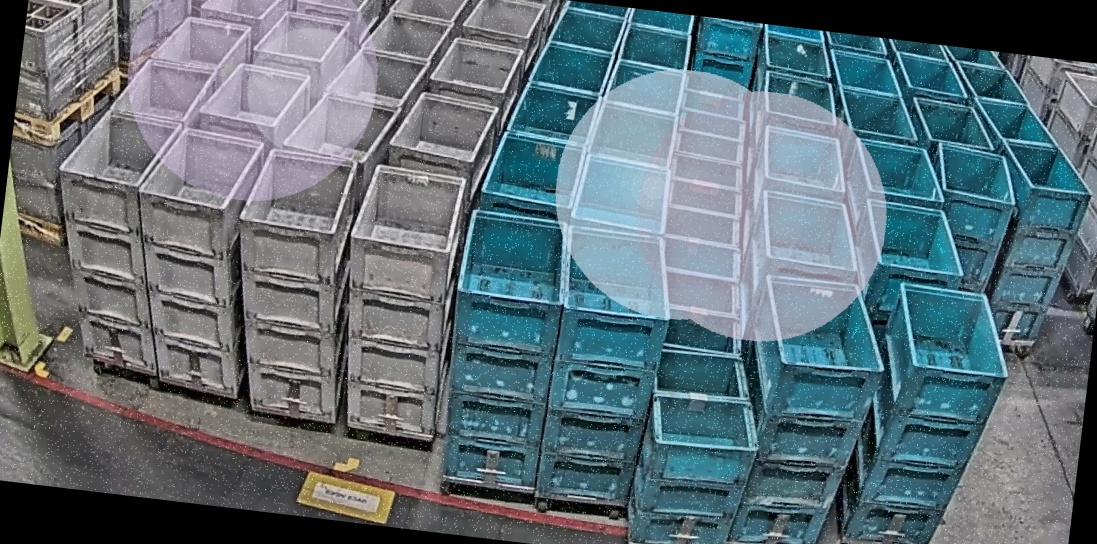4G: (115, 119, 274, 395), (214, 144, 370, 422), (35, 103, 190, 378), (326, 161, 469, 441)
B4: (718, 270, 896, 544), (835, 279, 1018, 544), (534, 222, 682, 509), (434, 207, 575, 491), (918, 140, 1024, 296)
B8: (623, 345, 770, 544)
